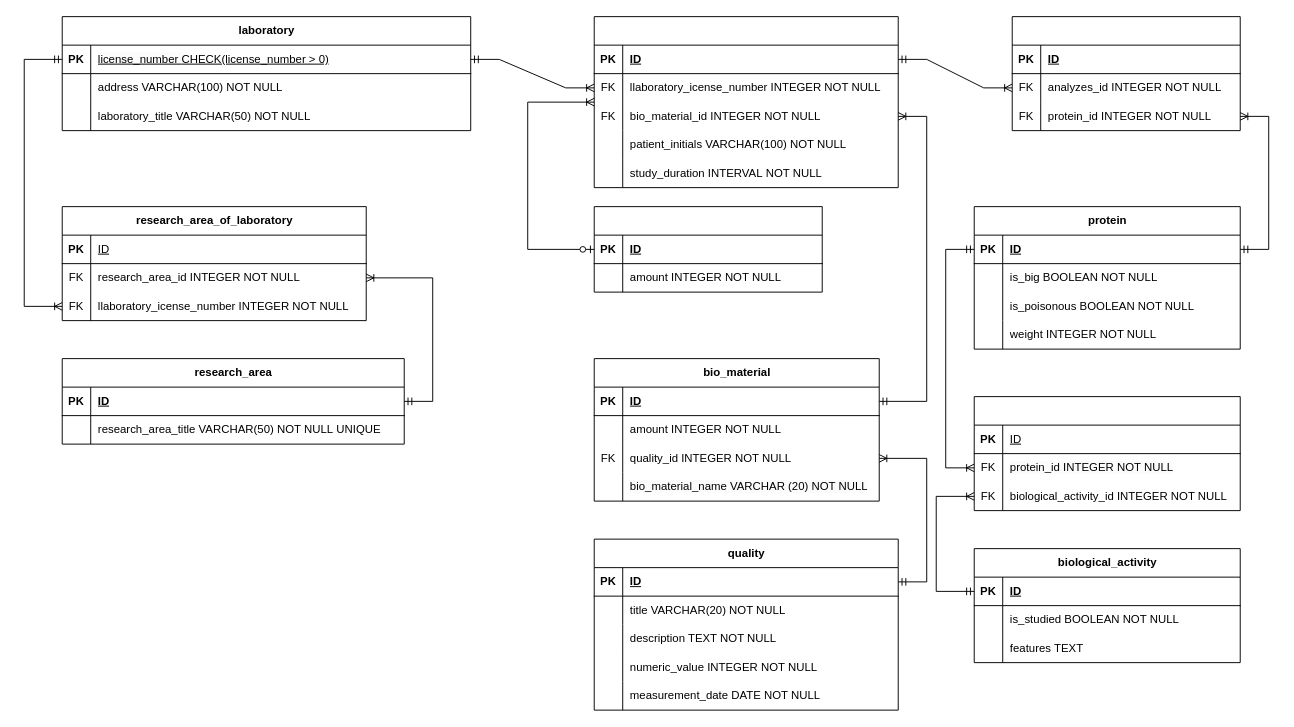
Image size: 1294x727. Some labels were removed from this diagram. The shapes that lost their labels are listed below. From the top down, each one's box as (x1, y1, x2, y2) in pixels, then its label:
(1011, 16, 1240, 131): protein_analizes
(593, 16, 898, 188): analyzes
(593, 206, 822, 292): serotonin
(973, 396, 1240, 511): biological_activity_of_proteins
